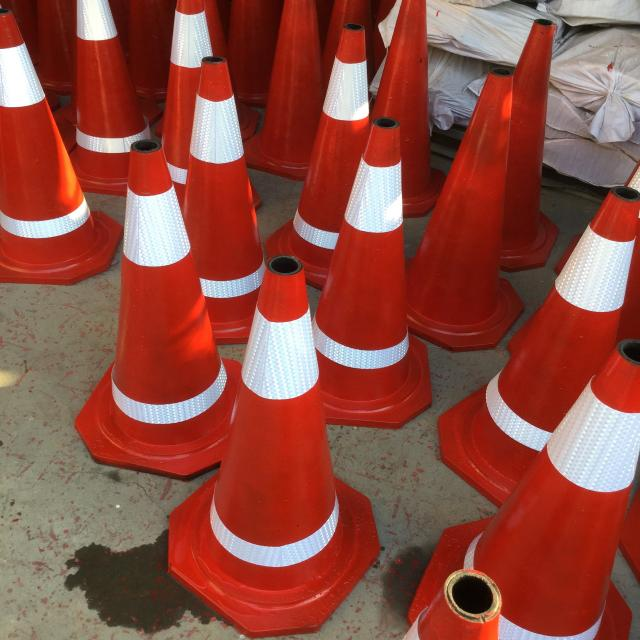reflective_cone: (161, 255, 380, 635), (406, 336, 636, 640), (440, 185, 639, 501), (74, 140, 241, 476), (312, 114, 434, 431), (2, 7, 124, 291), (184, 56, 264, 346), (64, 1, 161, 194)
